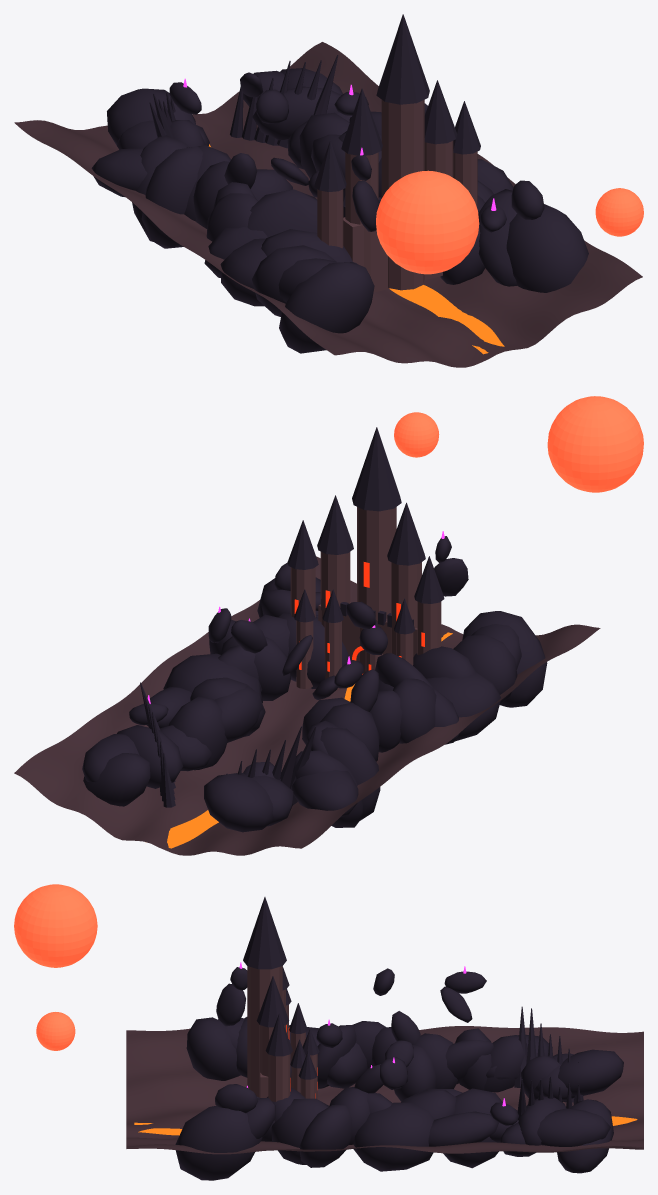
Rendered from InfernalWorldV9.fbx.
The picture shows the model from 3 angles, top to bottom: view 1: azimuth 30°, elevation 25°; view 2: azimuth 150°, elevation 25°; view 3: azimuth 270°, elevation 25°; orthographic projection. The views are drawn at different scales.
Visible parts, largest first — view 1: World_Hell_Obsidian, World_Hell_Basalt, World_Hell_RuinStone, World_Hell_Moon, World_Hell_Lava; view 2: World_Hell_Obsidian, World_Hell_Basalt, World_Hell_RuinStone, World_Hell_Moon, World_Hell_Lava, World_Hell_Ember; view 3: World_Hell_Obsidian, World_Hell_Basalt, World_Hell_Moon, World_Hell_RuinStone, World_Hell_Lava.
Part boxes in pixels (x1,y1,x2,y2): World_Hell_Obsidian: (91,14,588,353); World_Hell_Basalt: (14,42,642,367); World_Hell_RuinStone: (317,99,477,292); World_Hell_Moon: (376,170,643,274); World_Hell_Lava: (209,144,504,354); World_Hell_Obsidian: (82,427,547,832); World_Hell_Basalt: (14,556,600,855); World_Hell_RuinStone: (290,507,441,690); World_Hell_Moon: (394,396,643,492); World_Hell_Lava: (167,632,452,848); World_Hell_Ember: (294,562,424,674); World_Hell_Obsidian: (175,897,623,1180); World_Hell_Basalt: (126,1026,643,1154); World_Hell_Moon: (14,884,97,1050); World_Hell_RuinStone: (247,966,317,1101); World_Hell_Lava: (134,1116,637,1135).
Size of the model in its own units: 22 by 20.76 by 48.2.
